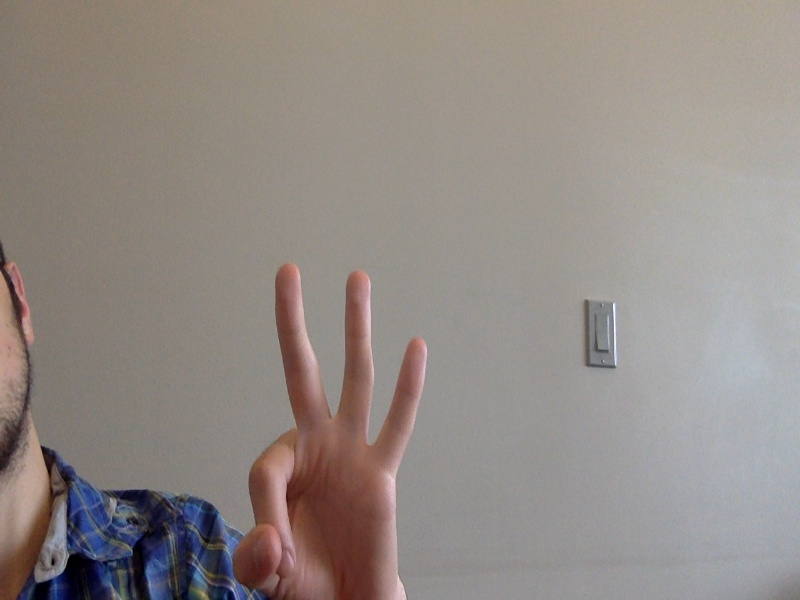3-hand: (235, 261, 430, 600)
